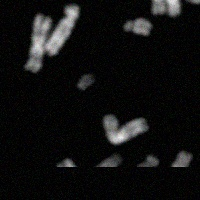chromosome: (45, 5, 82, 55), (100, 113, 148, 144), (25, 14, 50, 73), (150, 0, 181, 21), (125, 17, 153, 38), (183, 0, 200, 6)
